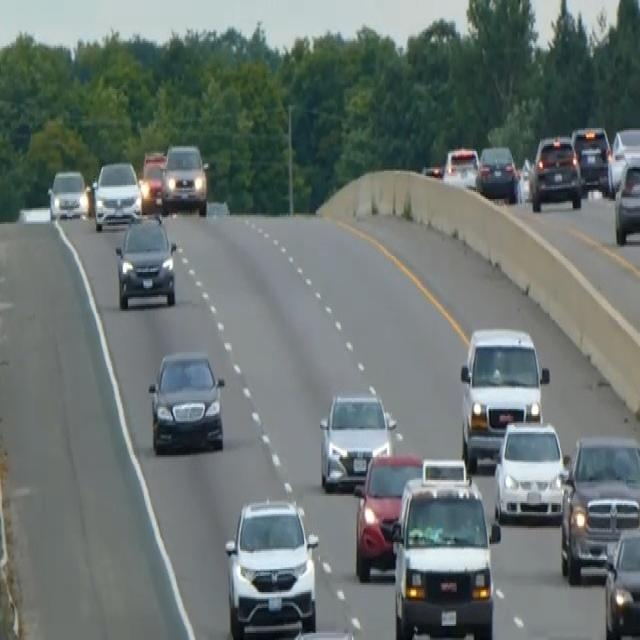car: (223, 496, 319, 638), (559, 432, 639, 583), (353, 450, 424, 581), (147, 349, 225, 455), (318, 389, 397, 491), (492, 418, 568, 524), (114, 210, 177, 309), (602, 524, 639, 638), (529, 134, 582, 212), (91, 158, 142, 230), (161, 142, 208, 215), (571, 124, 611, 194), (475, 142, 519, 203), (613, 157, 639, 246), (47, 167, 88, 221), (608, 124, 639, 194), (139, 150, 167, 212), (442, 144, 479, 190), (268, 628, 363, 638), (518, 155, 534, 201)
minivan: (387, 462, 499, 638), (459, 324, 549, 469)
